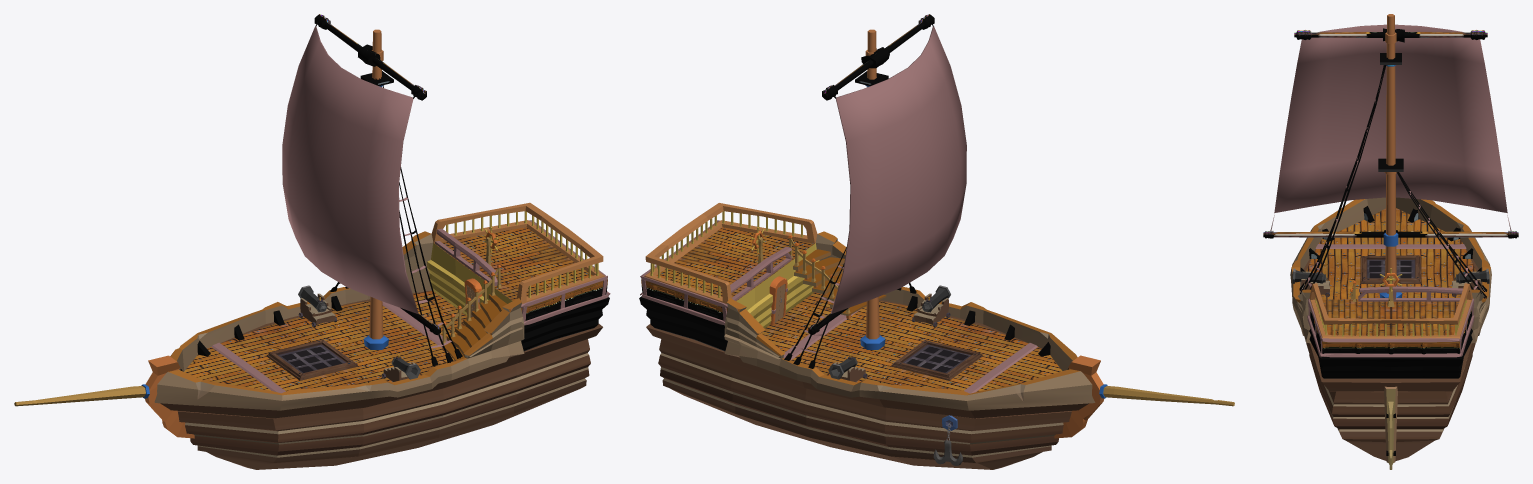
The model's file is Shiip_0.fbx.
The picture shows the model from 3 angles, left to right: view 1: azimuth 30°, elevation 25°; view 2: azimuth 150°, elevation 25°; view 3: azimuth 270°, elevation 25°; orthographic projection. The views are drawn at different scales.
Parts seen in each view (by area): view 1: ship hull_0, sail_0, captain_ floor_0, side of the ship, mast_0, manhole_0, Cannon_0, rope ladder.001; view 2: ship hull_0, sail_0, captain_ floor_0, side of the ship, mast_0, manhole_0, Cannon_0, rope ladder, Anchor_0; view 3: sail_0, ship hull_0, captain_ floor_0, mast_0, side of the ship, manhole_0, rope ladder.001, Cannon_0, steering fin_0, rope ladder.
Boxes of the visible parts, bbox=[...] form: ship hull_0: bbox=[160, 290, 602, 469]; sail_0: bbox=[282, 21, 432, 326]; captain_ floor_0: bbox=[427, 202, 610, 360]; side of the ship: bbox=[14, 231, 524, 438]; mast_0: bbox=[314, 14, 440, 349]; manhole_0: bbox=[266, 339, 357, 380]; Cannon_0: bbox=[298, 285, 420, 381]; rope ladder.001: bbox=[375, 77, 462, 366]; ship hull_0: bbox=[646, 292, 1088, 469]; sail_0: bbox=[816, 21, 966, 326]; captain_ floor_0: bbox=[639, 203, 886, 351]; side of the ship: bbox=[724, 231, 1234, 438]; mast_0: bbox=[808, 14, 934, 349]; manhole_0: bbox=[891, 340, 982, 380]; Cannon_0: bbox=[828, 285, 950, 381]; rope ladder: bbox=[784, 247, 846, 368]; Anchor_0: bbox=[933, 415, 962, 465]; sail_0: bbox=[1270, 24, 1511, 230]; ship hull_0: bbox=[1300, 208, 1481, 461]; captain_ floor_0: bbox=[1307, 280, 1474, 378]; mast_0: bbox=[1263, 14, 1518, 297]; side of the ship: bbox=[1290, 197, 1491, 343]; manhole_0: bbox=[1360, 255, 1421, 283]; rope ladder.001: bbox=[1299, 56, 1387, 293]; Cannon_0: bbox=[1292, 268, 1489, 296]; steering fin_0: bbox=[1384, 386, 1397, 469]; rope ladder: bbox=[1396, 172, 1487, 298].
Bounding box in the file's own units: 1148 × 810 × 494.
